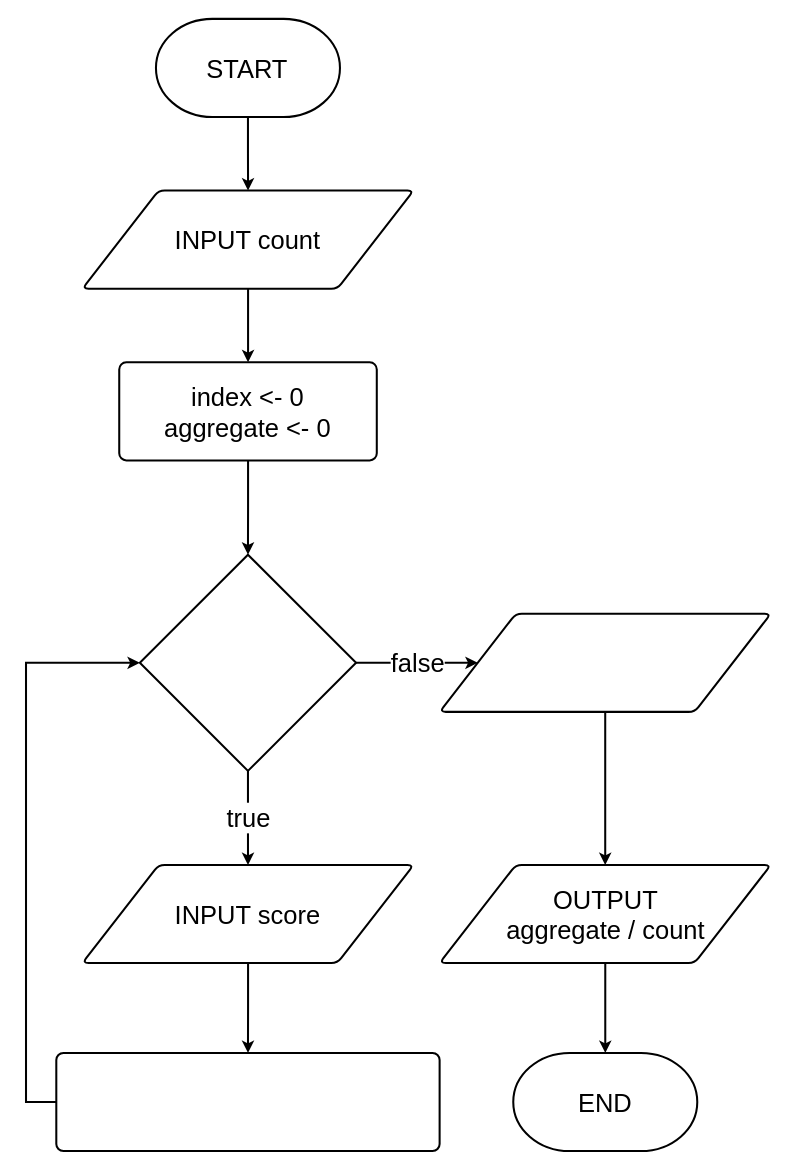
The diagram is 789 pixels wide and 1169 high, and some of its shapes have lost their labels. Here are the shapes that lost their labels. From the top down, the centre of each, then its label:
At point (247, 662): "index < count".
At point (604, 662): "OUTPUT aggregate".
At point (247, 1101): "aggregate <- aggregate + score".
